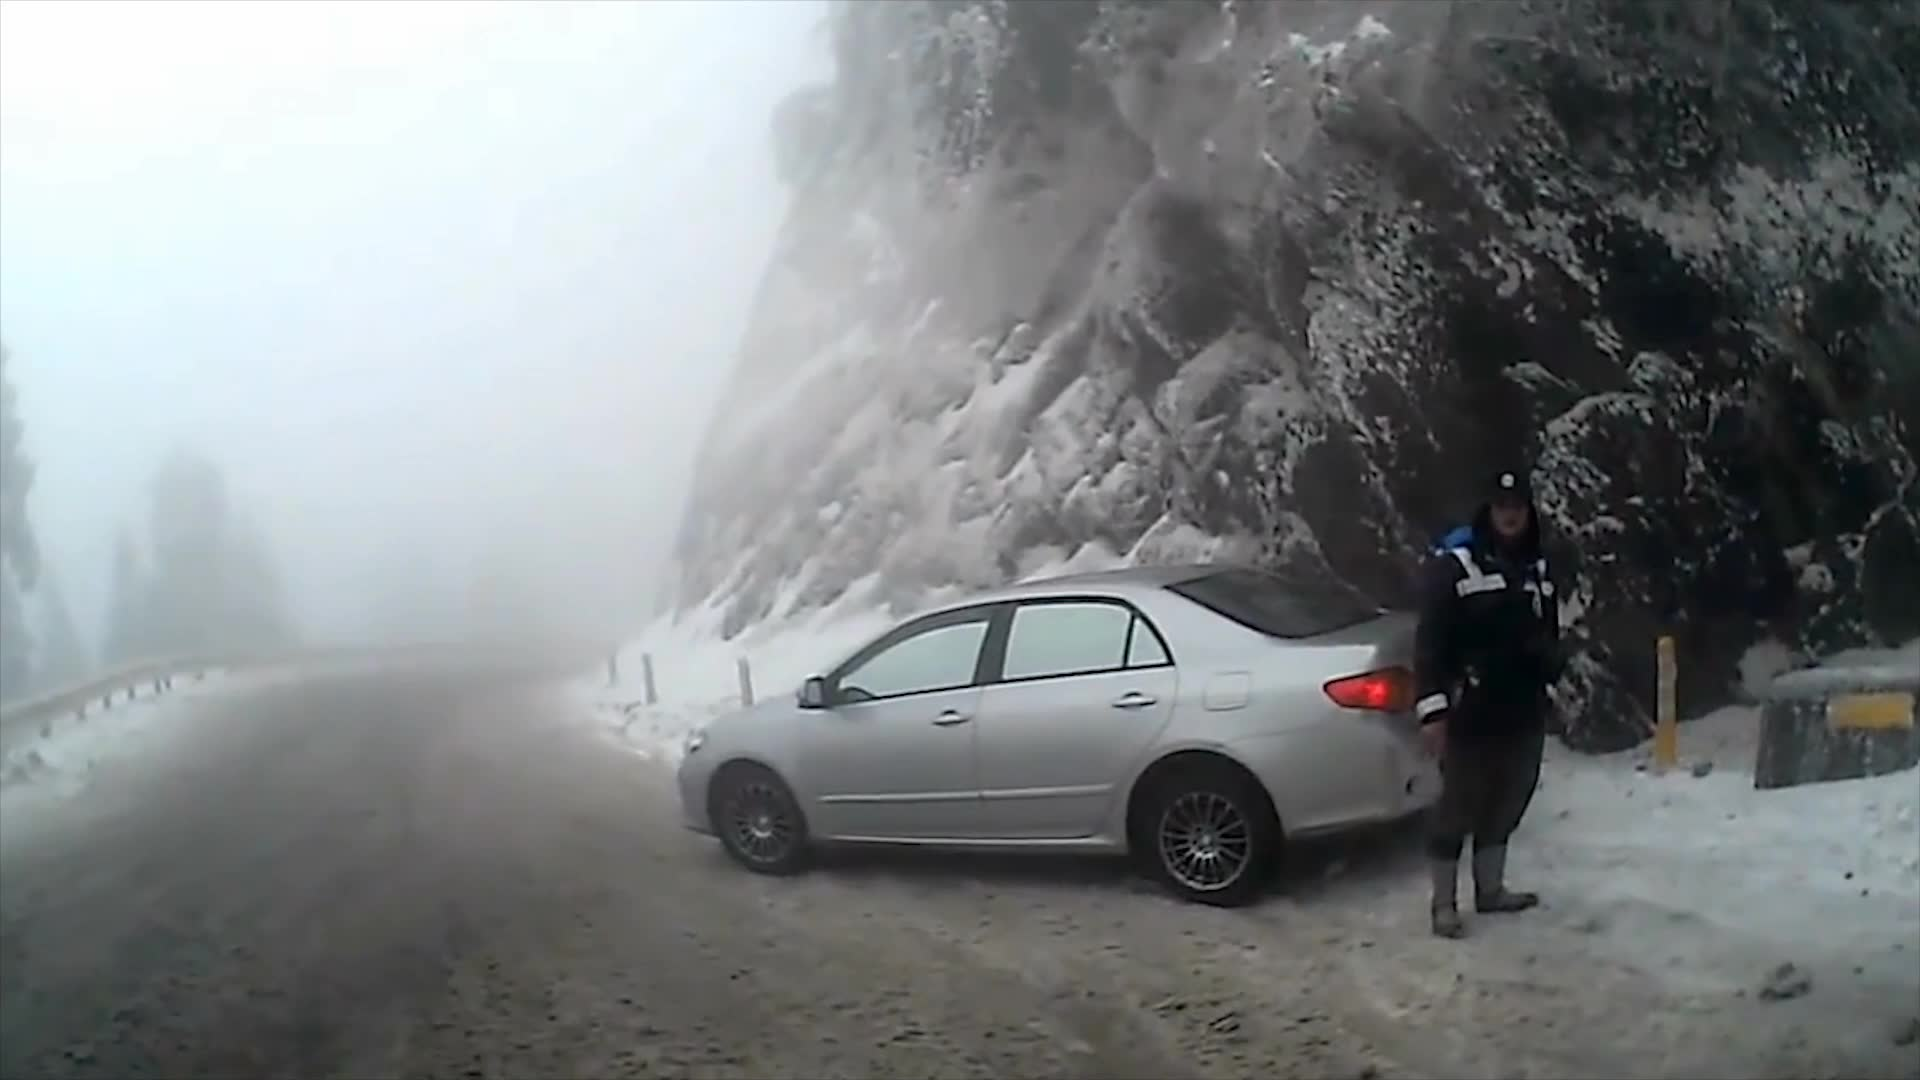pedestrian: (1409, 480, 1566, 951)
vehicle: (674, 562, 1514, 908)
